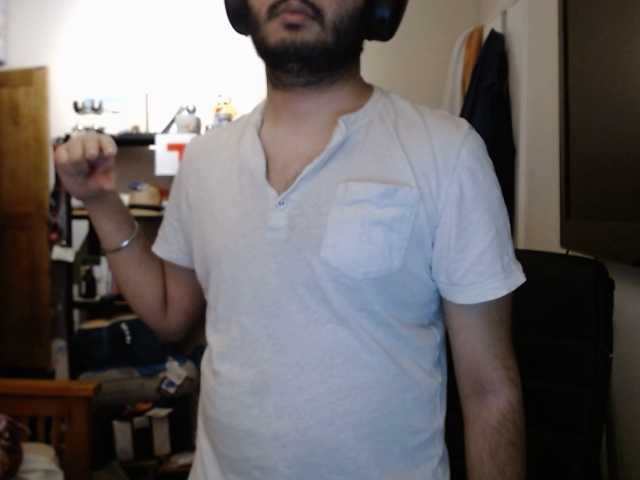No: (37, 125, 128, 222)
